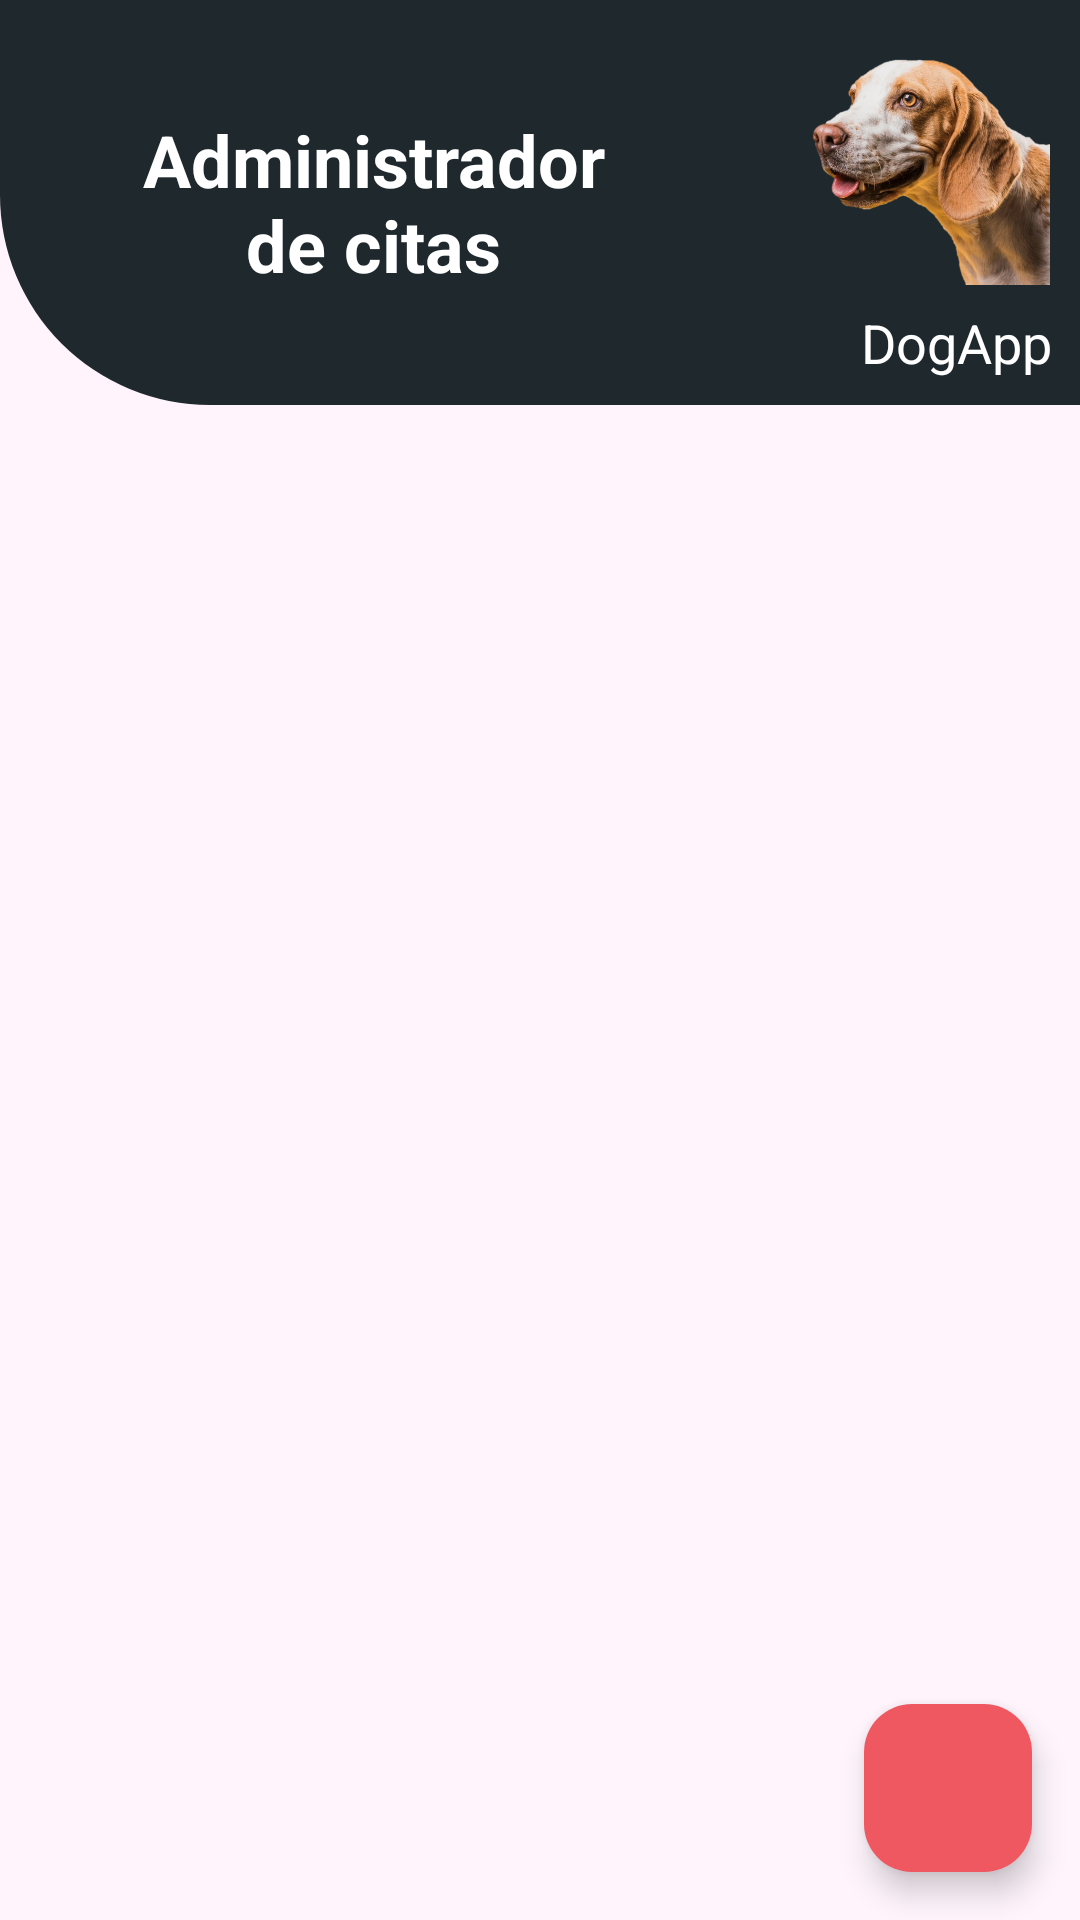

Named icons in this screenshot (1080×1920) and their centers, (x=x, y=y):
perro: (x=931, y=172)
